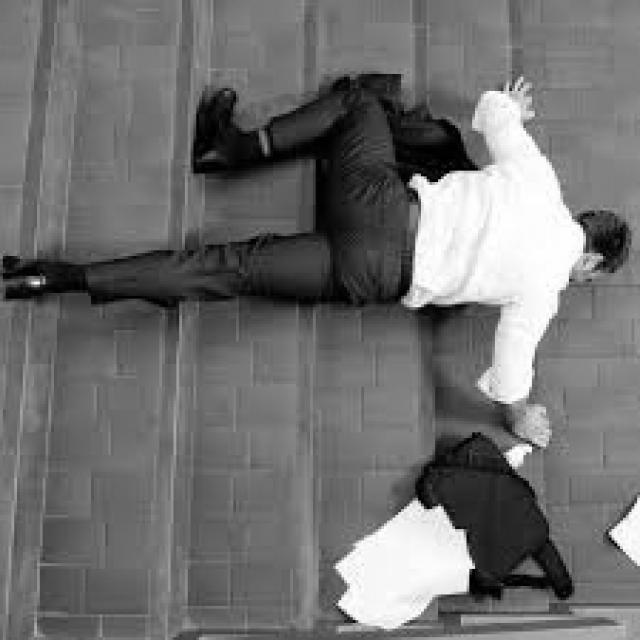lie: (59, 116, 612, 324)
